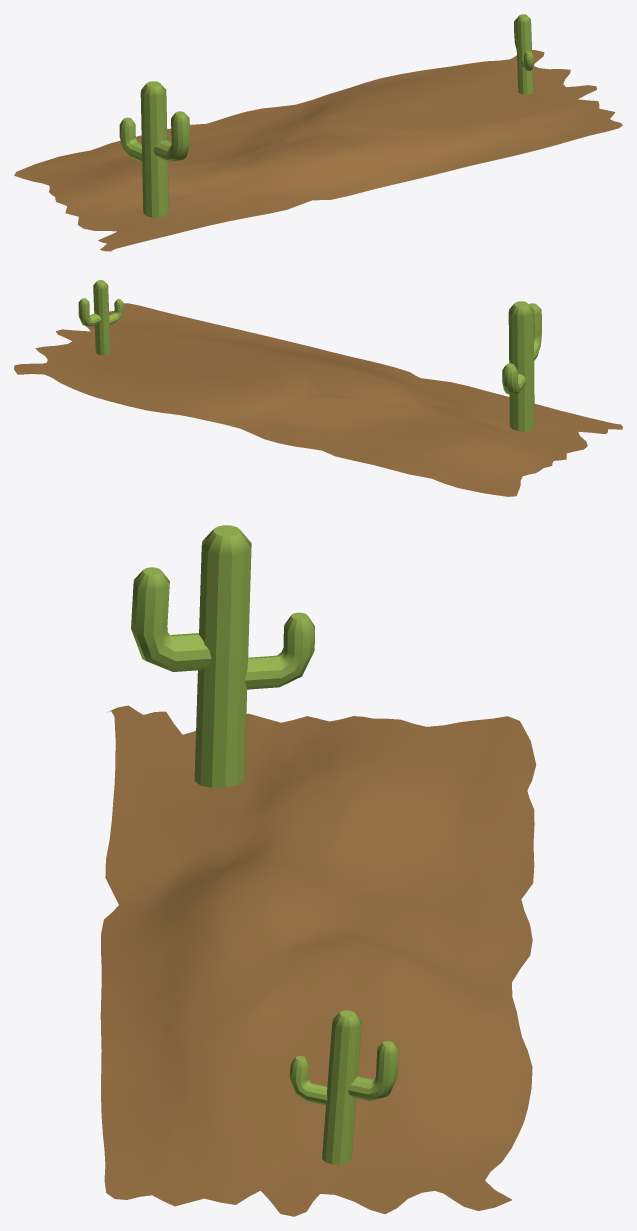
Rendered from foreground1.fbx.
3 renders of one model, top to bottom at view 1: azimuth 30°, elevation 25°; view 2: azimuth 150°, elevation 25°; view 3: azimuth 270°, elevation 25°, orthographic. The views are drawn at different scales.
Parts seen in each view (by area): view 1: polySurface16; view 2: polySurface16; view 3: polySurface16.
Part boxes in pixels (x1,y1,x2,y2): polySurface16: [14, 14, 622, 251]; polySurface16: [14, 280, 622, 496]; polySurface16: [100, 525, 536, 1216].
Bounding box in the file's own units: 547 × 125 × 197.
